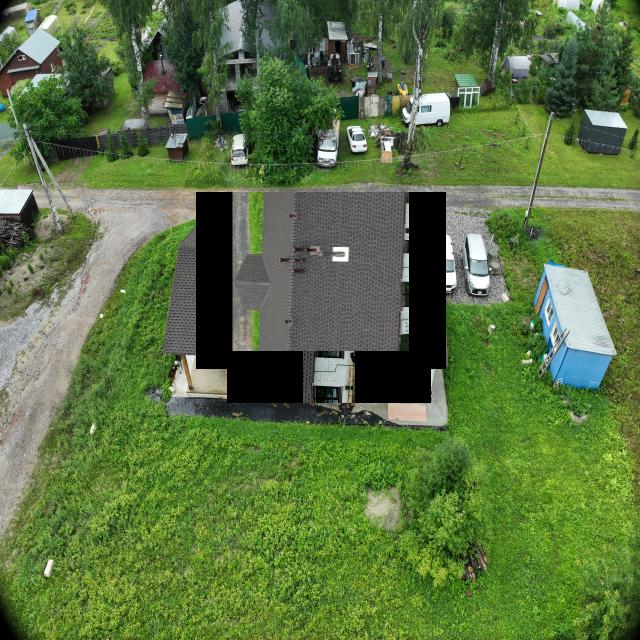doors: (394, 362, 418, 400)
roof_finished: (196, 192, 446, 369)
walls: (227, 351, 431, 403)
windows: (237, 356, 274, 387), (292, 357, 324, 390), (348, 353, 363, 392)
